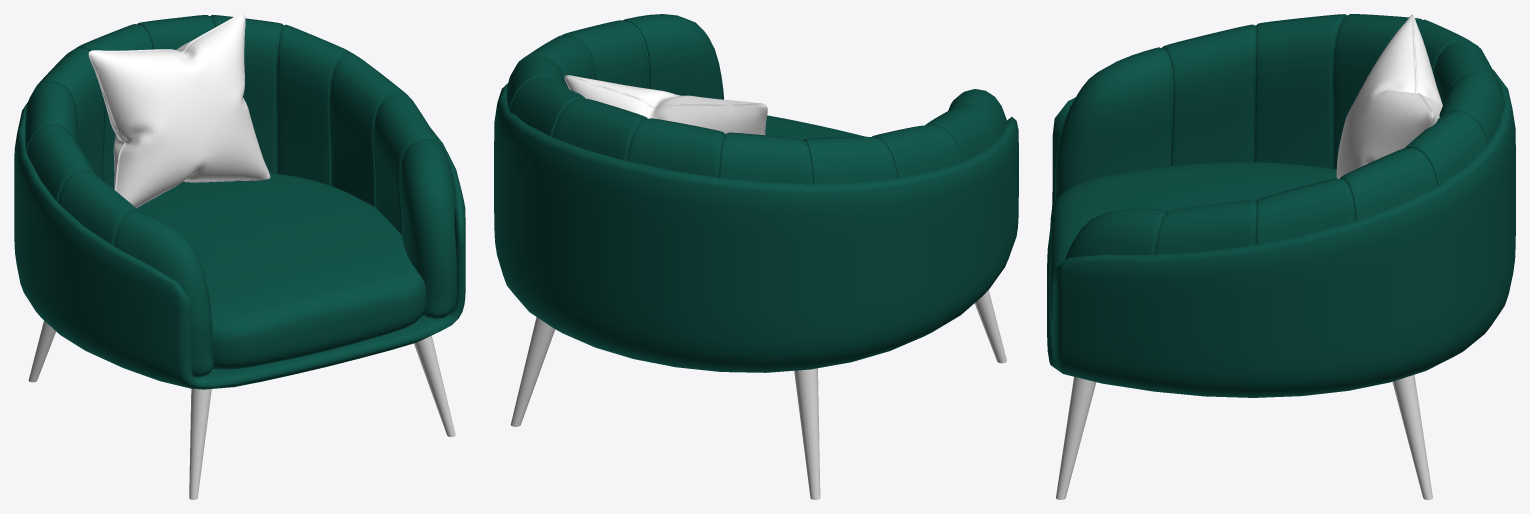
Rendered from Sofa Chair.glb.
3 renders of one model, left to right at view 1: azimuth 30°, elevation 25°; view 2: azimuth 150°, elevation 25°; view 3: azimuth 270°, elevation 25°, orthographic. The views are drawn at different scales.
Visible parts, largest first — view 1: Object_4, Object_12, Object_10; view 2: Object_4, Object_12, Object_10; view 3: Object_4, Object_12, Object_10.
Part boxes in pixels (x1,y1,x2,y2): Object_4: (14,15,465,389); Object_12: (88,14,270,208); Object_10: (28,320,455,499); Object_4: (494,14,1018,372); Object_12: (564,75,767,135); Object_10: (510,290,1006,499); Object_4: (1047,14,1515,397); Object_12: (1336,14,1442,178); Object_10: (1056,374,1432,499).
Size of the model in its own units: 1.69 by 1.39 by 1.6.
